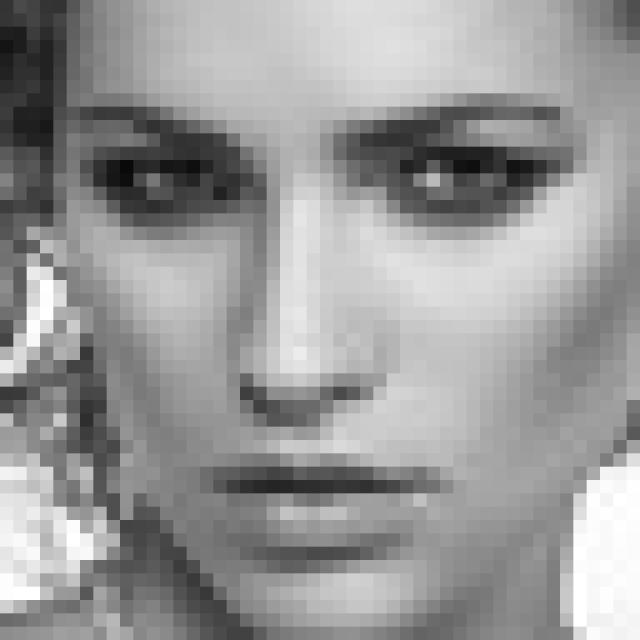neutral: (65, 97, 593, 570)
